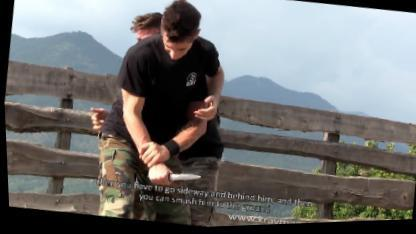knife: (142, 162, 206, 194)
